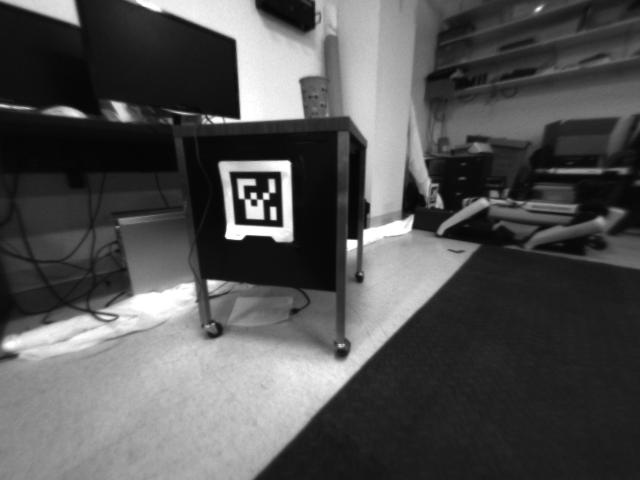coffee_cup: (295, 75, 333, 120)
